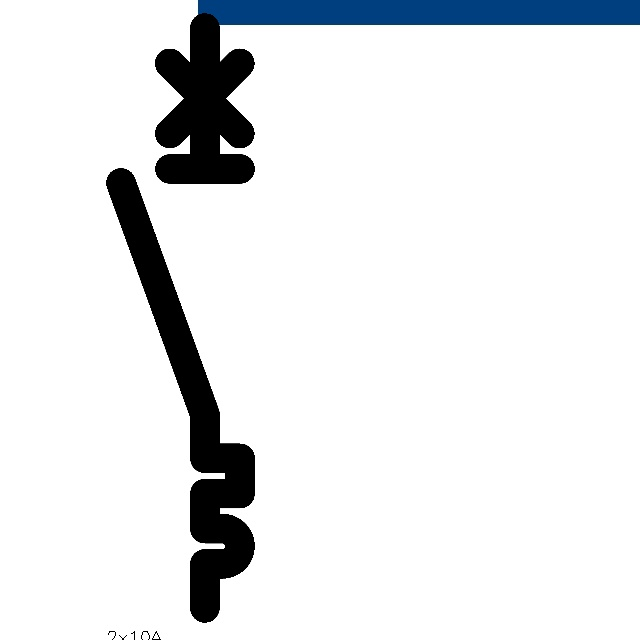interruptor_termomagnetico: (106, 13, 255, 623)
